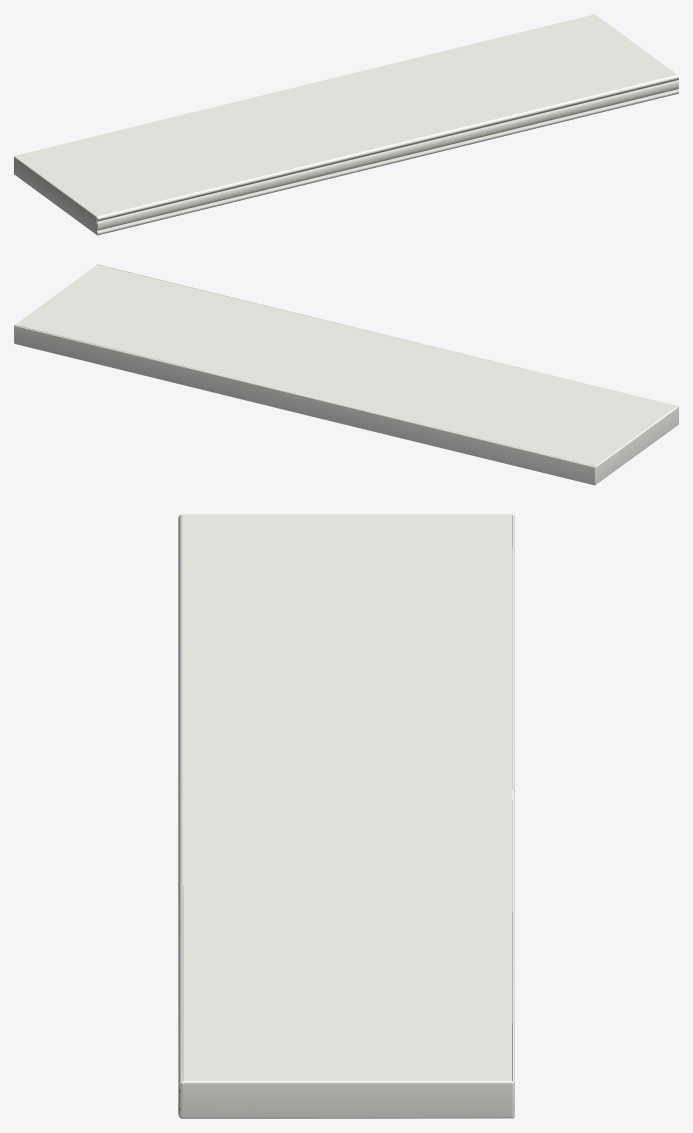
The model's file is bergshult_poka_70421238.glb.
3 views of the same model, one above another, from view 1: azimuth 30°, elevation 25°; view 2: azimuth 150°, elevation 25°; view 3: azimuth 270°, elevation 25° (orthographic). The views are drawn at different scales.
Visible parts, largest first — view 1: bergshult_poka_70421238; view 2: bergshult_poka_70421238; view 3: bergshult_poka_70421238.
Boxes of the visible parts, bbox=[...] form: bergshult_poka_70421238: bbox=[14, 14, 678, 235]; bergshult_poka_70421238: bbox=[14, 264, 678, 485]; bergshult_poka_70421238: bbox=[178, 514, 514, 1118].
Size of the model in its own units: 0.8 by 0.0259 by 0.2.
Materials: 1 (1 with a texture image).
